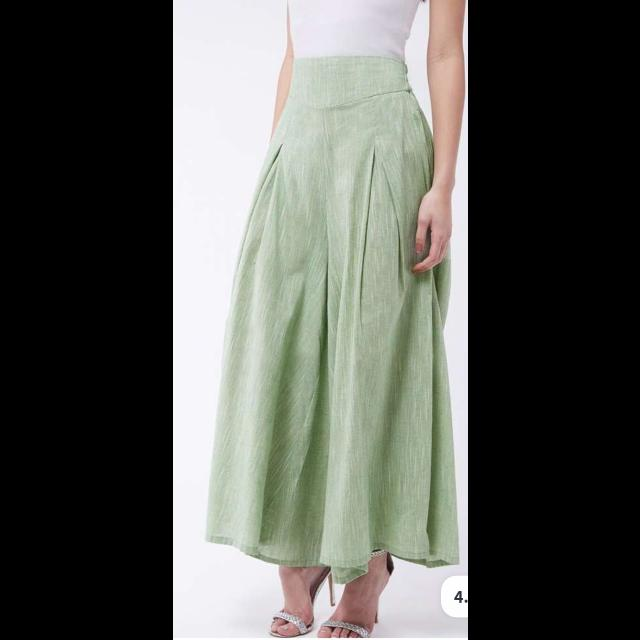bottom: (227, 63, 448, 570)
shoes: (274, 558, 322, 632), (331, 566, 381, 636)
top: (284, 4, 414, 70)
